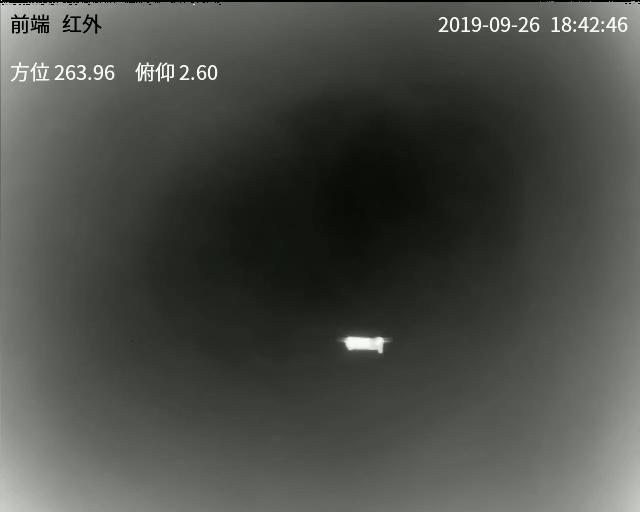uav: (331, 329, 387, 355)
